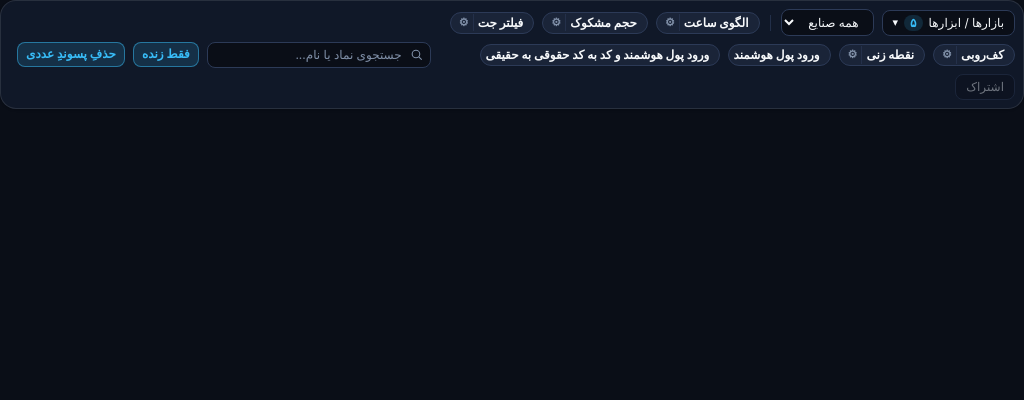
نوار تک‌خطی فیلترها و dropdown بازارها › رگرسیون Z-Index: منوی باز با portal روی body و z-[9999] رندر می‌شود (نه زیر جدول)
The width and height of the screenshot is (1024, 400).
Click the button "بازارها / ابزارها ۵ ▾": point(948, 22) [882,10,1015,36]
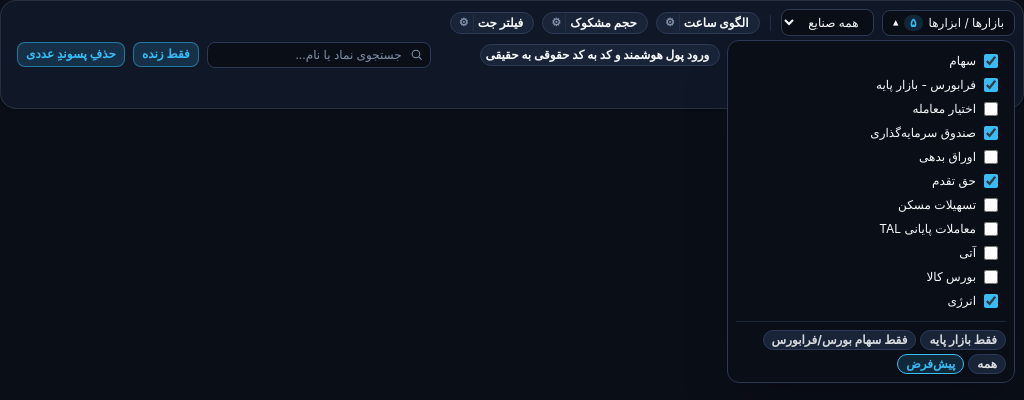
Expected: the checkbox labelled "سهام" is shown, [984,54,998,68]
